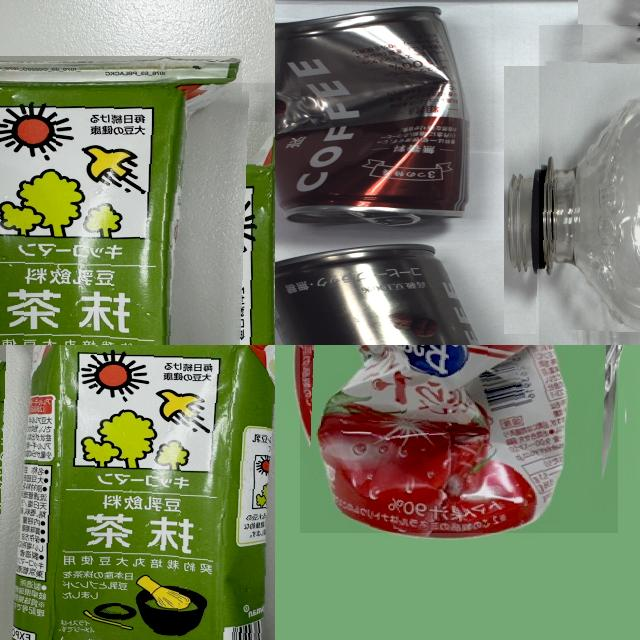Aluminium Foil: (0, 345, 275, 640), (0, 83, 275, 345)
Can: (299, 345, 617, 533), (275, 9, 466, 225), (275, 243, 526, 345)
Transparent Plastic Bottle: (538, 25, 640, 345)
